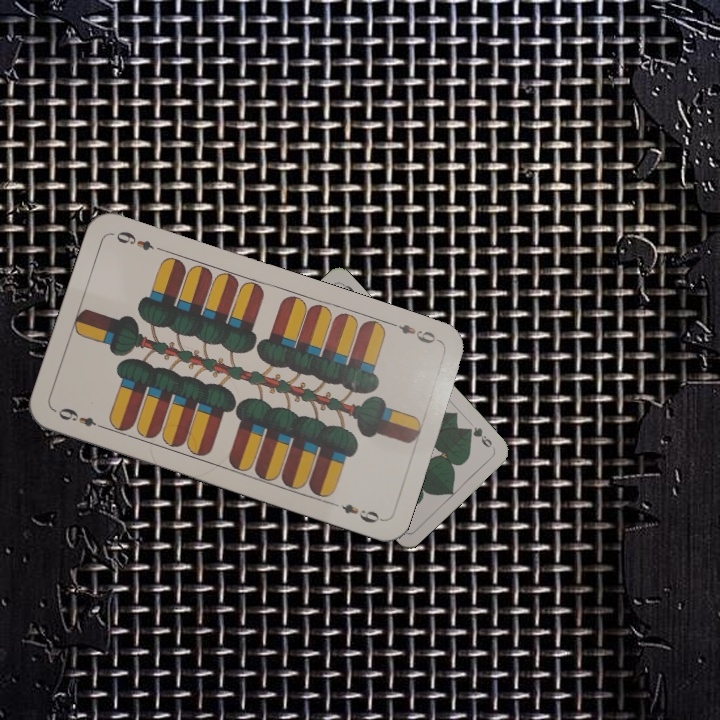E9: (386, 318, 443, 346), (54, 403, 109, 432)
G9: (462, 422, 497, 452)
